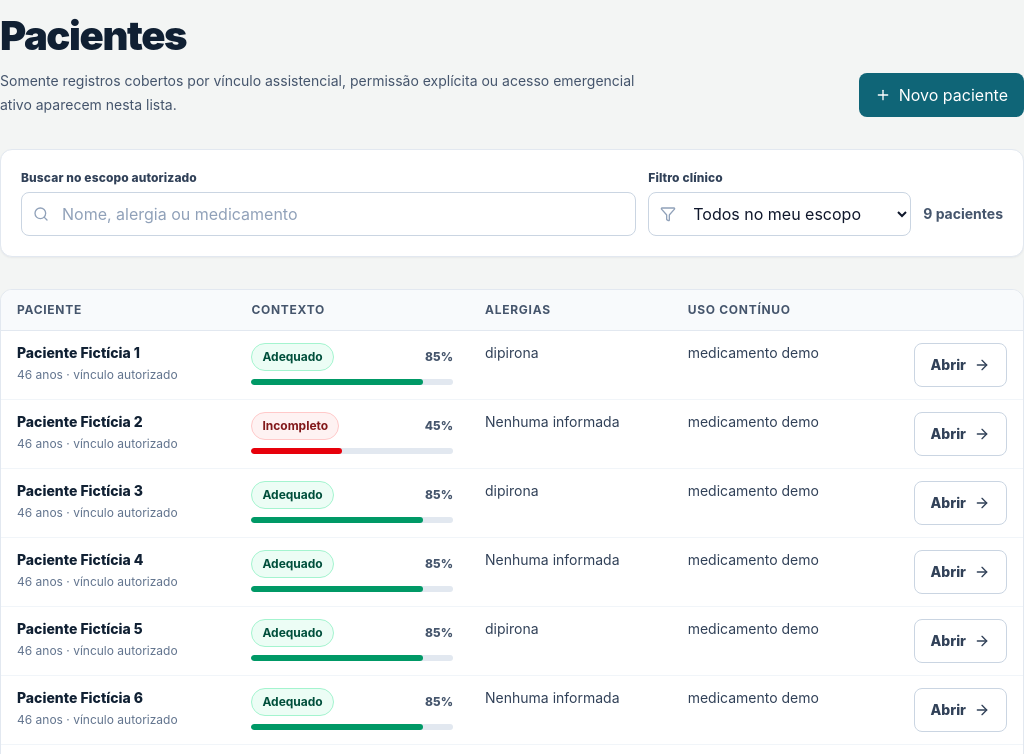
lista autorizada de pacientes › busca, filtra, pagina e abre o workspace
Expected: the text "Paciente Fictícia 1" is shown, [17,344,140,360]
In the search field labelled "Buscar no escopo autorizado": (329, 214) [21,192,636,236], type "Fictícia 2"
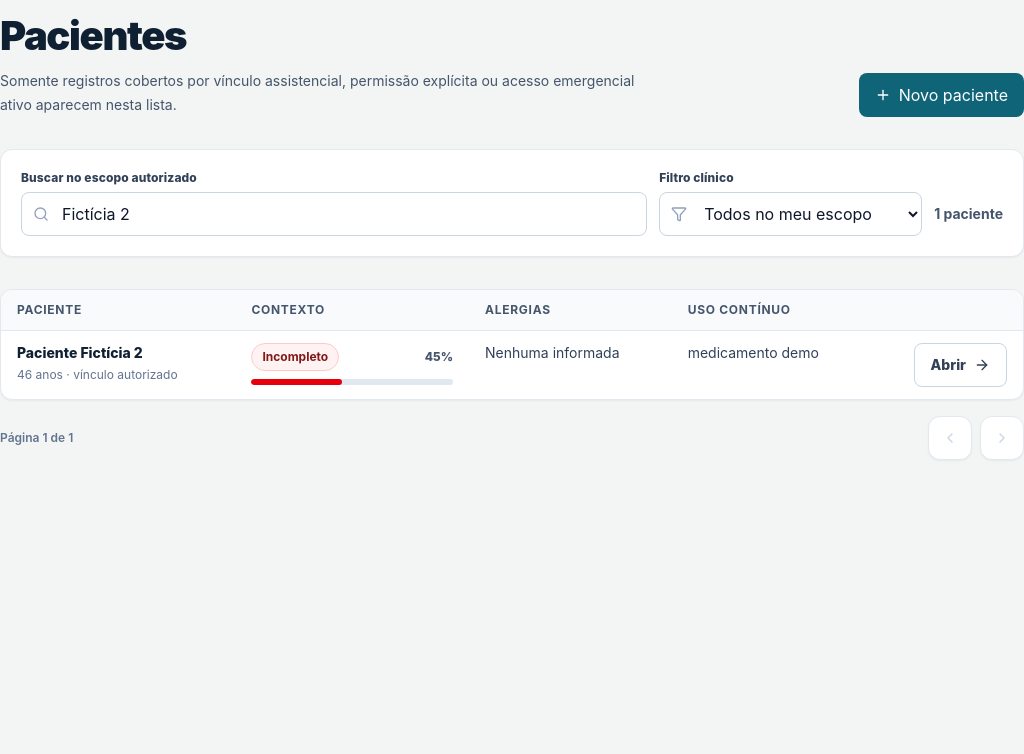
Now the text "1 paciente" is shown, box [934,204,1003,222]
Select "Contexto incompleto" in the dropdown labelled "Filtro clínico": (791, 214) [659,192,922,236]
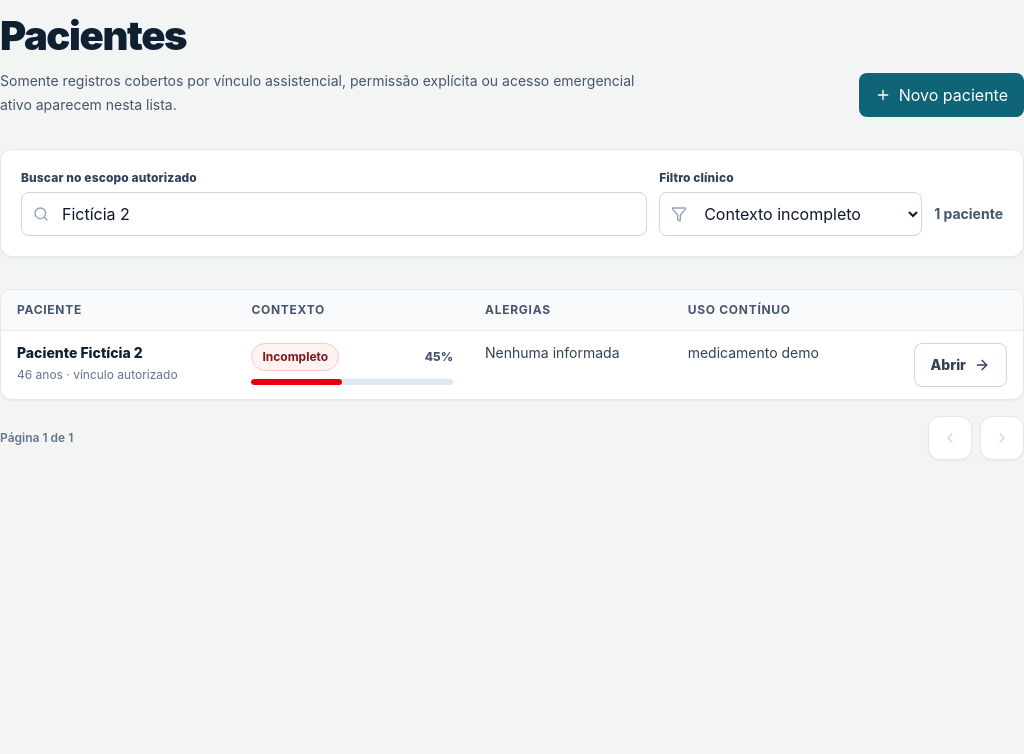
Expected: the text "Paciente Fictícia 2" is shown, [17,344,143,360]
Clear the search field labelled "Buscar no escopo autorizado": (334, 214) [21,192,647,236]
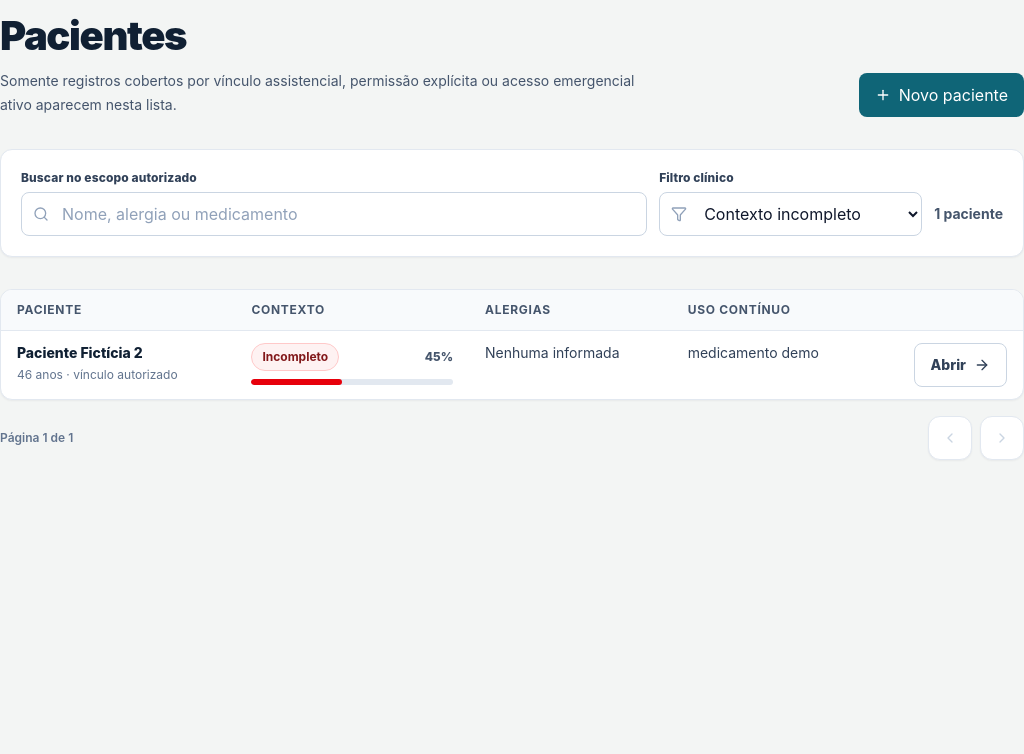
Select "Todos no meu escopo" in the dropdown labelled "Filtro clínico": (791, 214) [659,192,922,236]
(page scrolled)
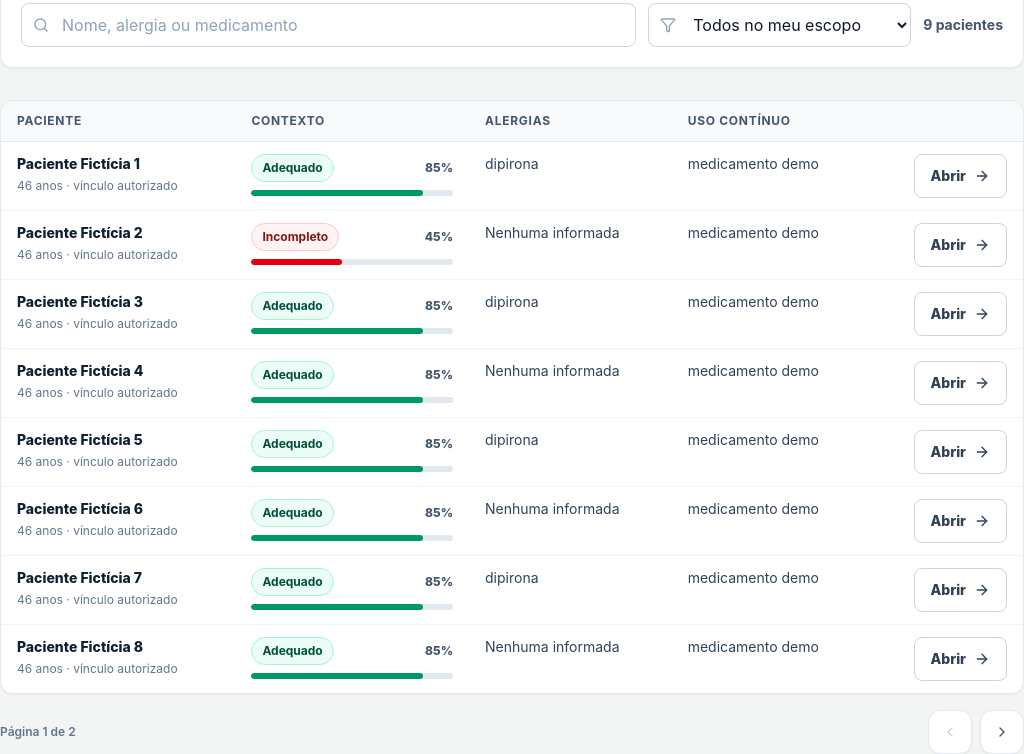
Click the button named "Próxima página": (1002, 732) [980,710,1023,753]
(page scrolled)
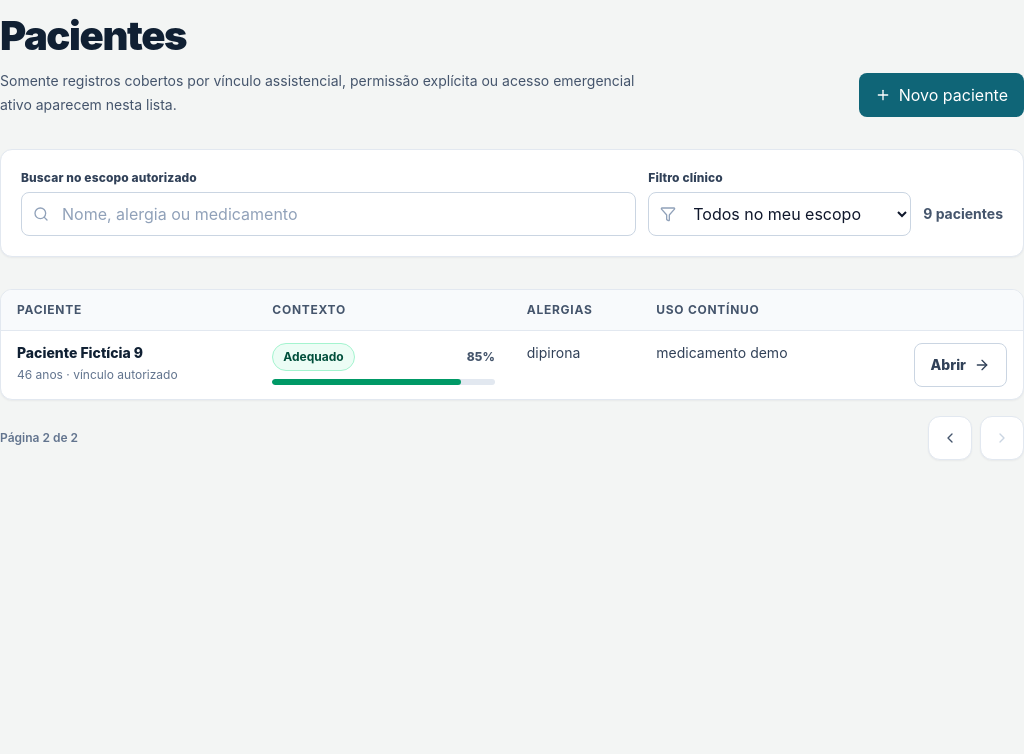
Now the text "Página 2 de 2" is shown, box [0,430,78,446]
